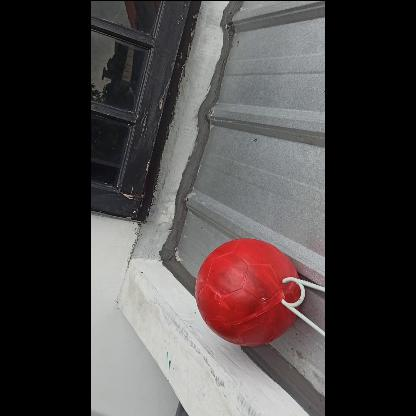red_ball: (195, 240, 301, 346)
